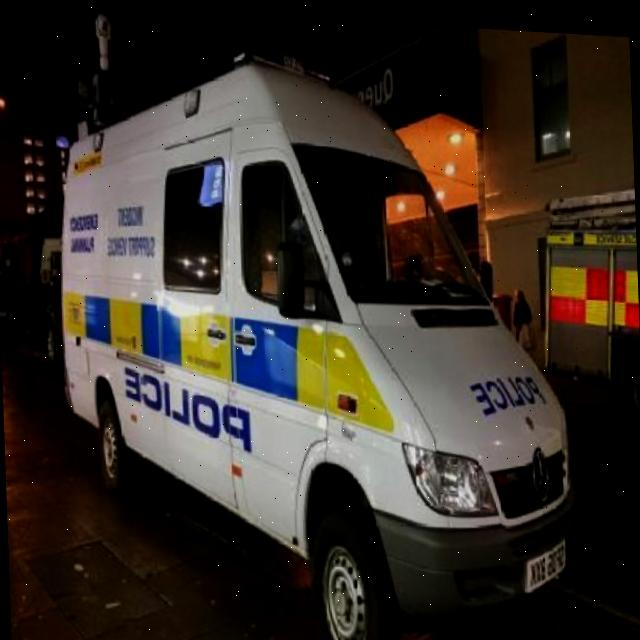emergency: (45, 3, 580, 640)
